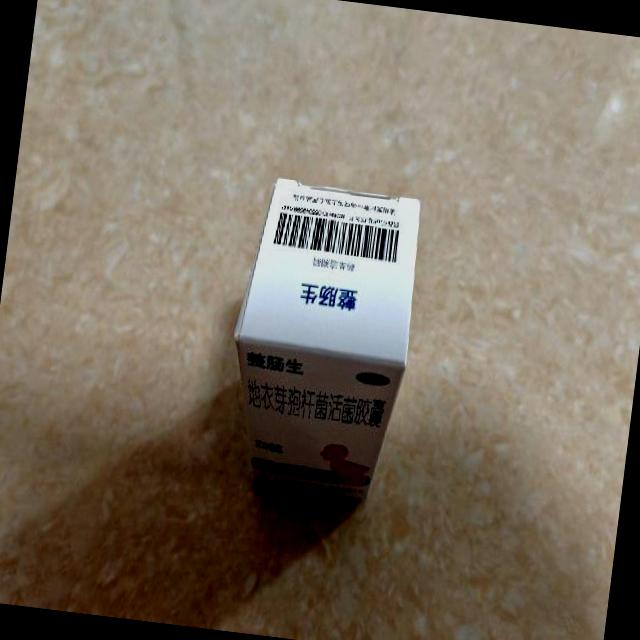box: (216, 173, 426, 504)
